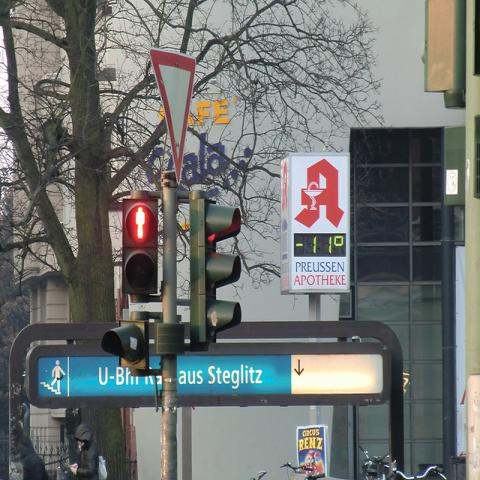motorcycle: (364, 448, 449, 479)
